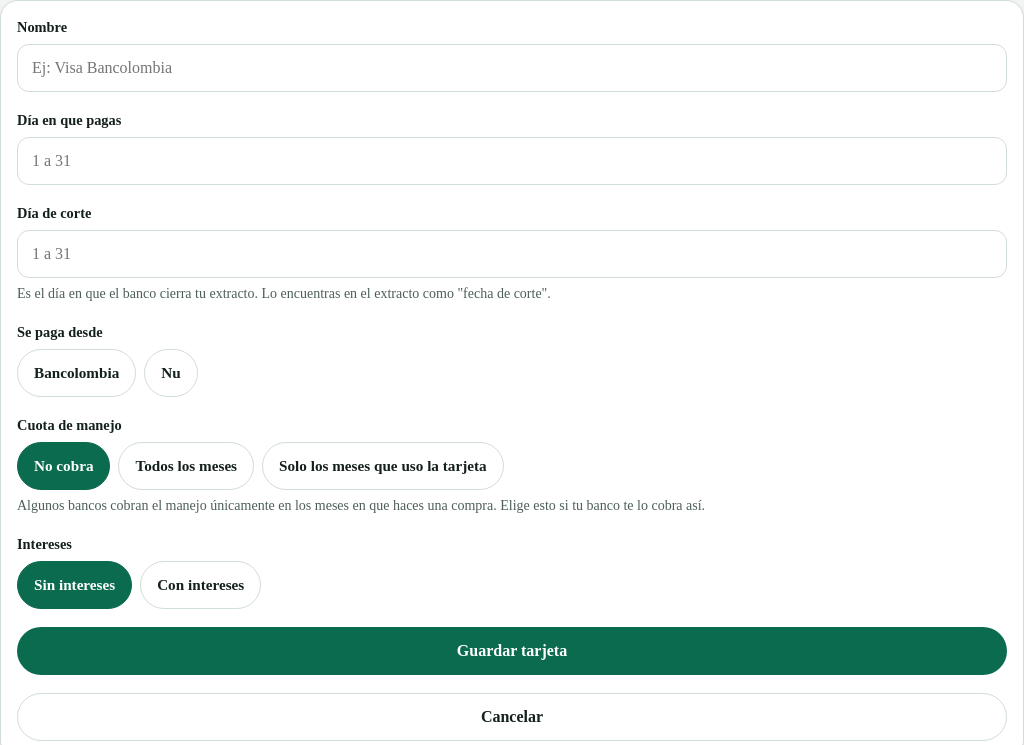
Test case: CardForm › muestra los errores y no envía
The width and height of the screenshot is (1024, 745).
Step 1. Click the button "Guardar tarjeta" → (512, 651), box 17,627 -> 1007,675
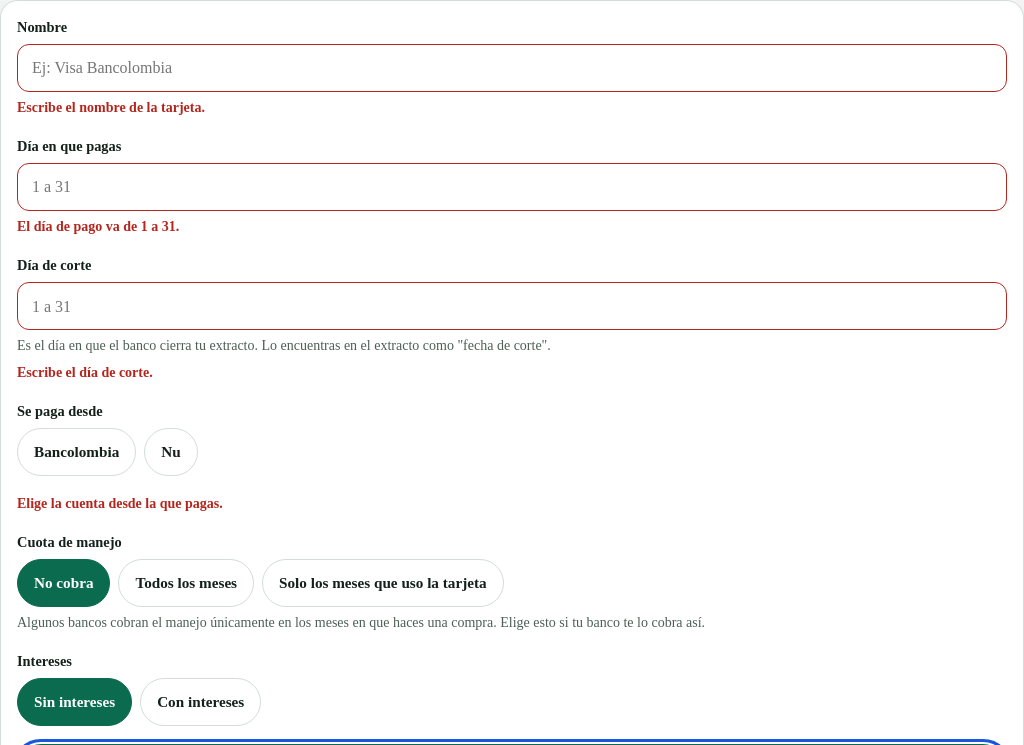
Check: the text "Escribe el nombre de la tarjeta." is shown, box 17,100 -> 205,115
Check: the text "El día de pago va de 1 a 31." is shown, box 17,219 -> 179,234
